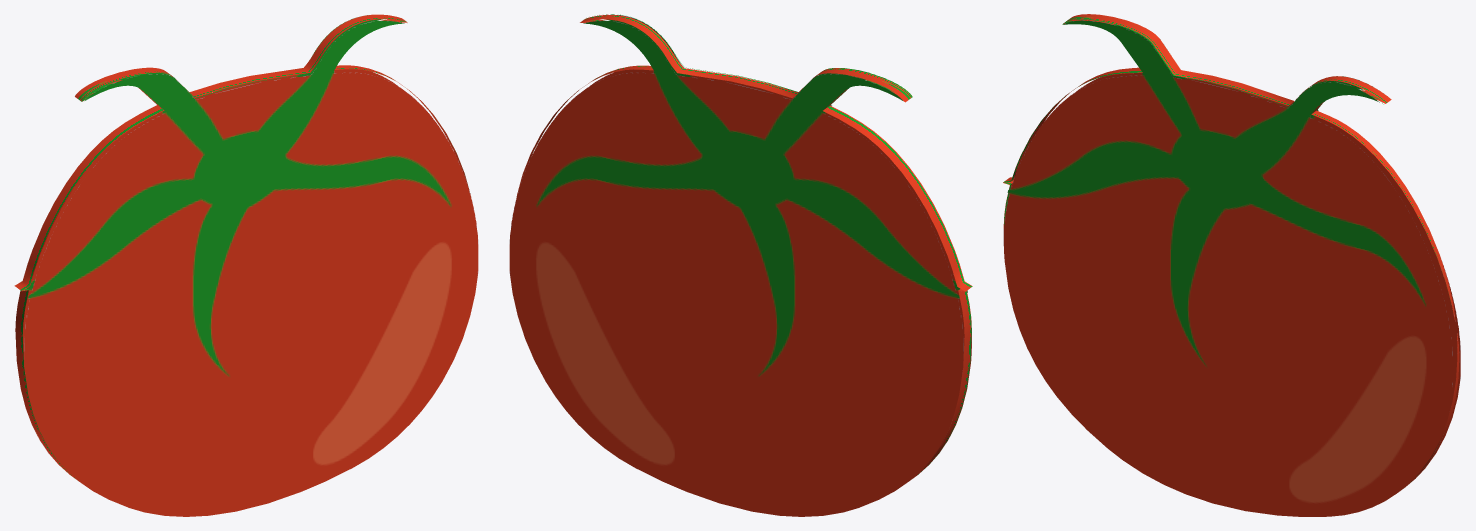
Rendered from tomato.fbx.
The picture shows the model from 3 angles, left to right: view 1: azimuth 30°, elevation 25°; view 2: azimuth 150°, elevation 25°; view 3: azimuth 330°, elevation 25°; orthographic projection.
Visible parts, largest first — view 1: tomato; view 2: tomato; view 3: tomato.
Boxes of the visible parts, x1,y1,x2,y2 form: tomato: (14, 14, 478, 516); tomato: (509, 14, 972, 516); tomato: (1003, 14, 1460, 516).
Bounding box in the file's own units: 11.49 × 11.04 × 0.3528.
1 material, 1 textured.
